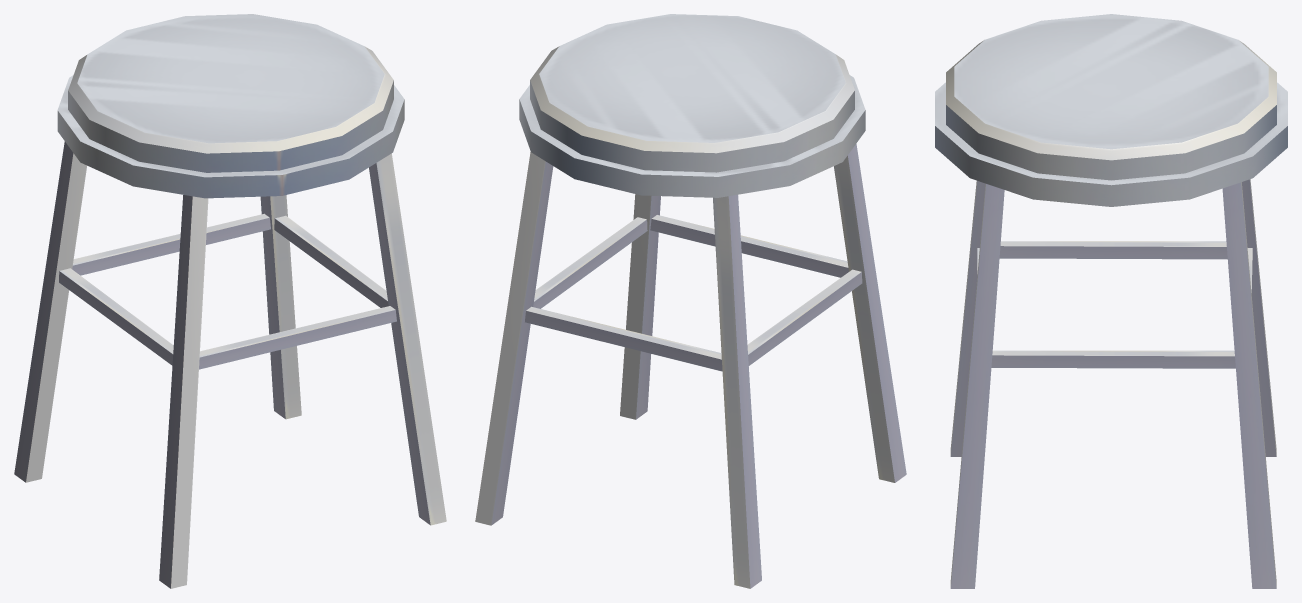
Rendered from CBS_cafe_2F_Chair.FBX.
The picture shows the model from 3 angles, left to right: view 1: azimuth 30°, elevation 25°; view 2: azimuth 150°, elevation 25°; view 3: azimuth 270°, elevation 25°; orthographic projection. The views are drawn at different scales.
Visible parts, largest first — view 1: CBS_cafe_2F_Chair; view 2: CBS_cafe_2F_Chair; view 3: CBS_cafe_2F_Chair.
Part boxes in pixels (box(x1,y1,x2,y2)): CBS_cafe_2F_Chair: box(14, 14, 446, 588); CBS_cafe_2F_Chair: box(475, 14, 906, 588); CBS_cafe_2F_Chair: box(935, 14, 1287, 588).
Size of the model in its own units: 30.31 by 40.39 by 29.55.
